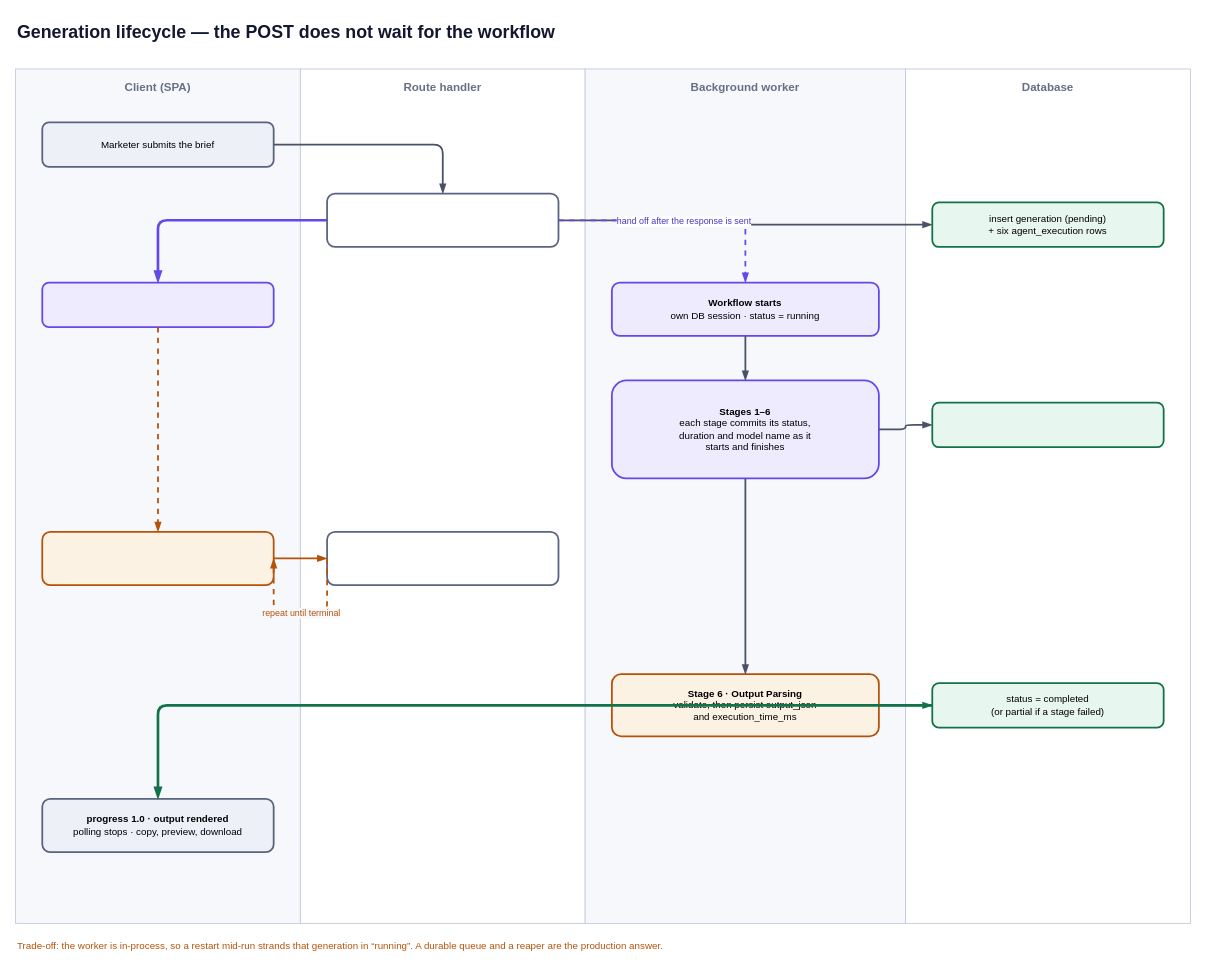
Image size: 1206x969. Some labels were removed from this diagram. The shapes that lost their labels are listed below. From the top down, each one's centre as x and y in pixels, then its label:
At point 442,219: "POST /api/v1/generations validate · check role · resolve taxonomy".
At point 157,304: "202 Accepted — returns immediately".
At point 1047,424: "stage rows updated live".
At point 157,558: "GET /generations/{id}/status polled every ~900 ms".
At point 442,558: "read generation + stage rows compute progress".
